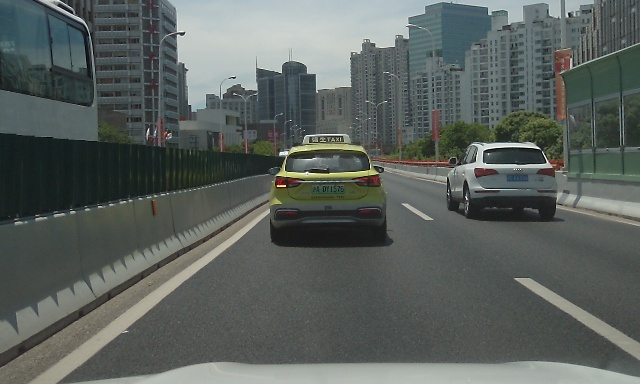bus: (0, 0, 101, 284)
car: (267, 134, 387, 241), (445, 142, 558, 220)
